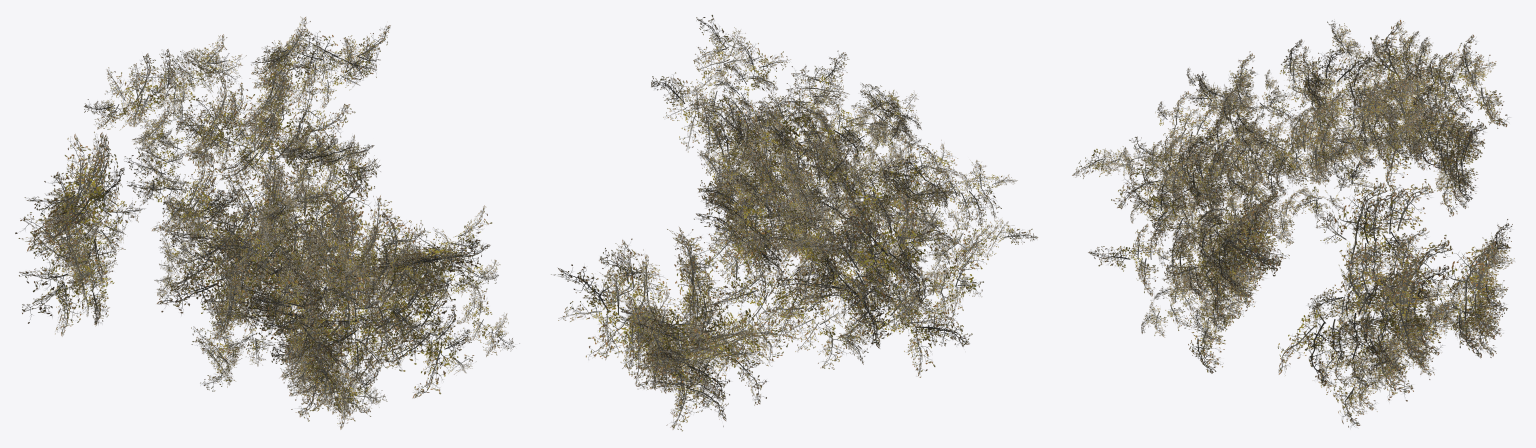
The model's file is late_autumn.glb.
3 renders of one model, left to right at view 1: azimuth 30°, elevation 25°; view 2: azimuth 150°, elevation 25°; view 3: azimuth 270°, elevation 25°, orthographic. The views are drawn at different scales.
Parts seen in each view (by area): view 1: Large_oak_tree_002_LOD0.003_Cluster_Mat Late Autumn EX_0; view 2: Large_oak_tree_002_LOD0.003_Cluster_Mat Late Autumn EX_0; view 3: Large_oak_tree_002_LOD0.003_Cluster_Mat Late Autumn EX_0.
Part boxes in pixels (x1,y1,x2,y2): Large_oak_tree_002_LOD0.003_Cluster_Mat Late Autumn EX_0: (15, 16, 519, 429); Large_oak_tree_002_LOD0.003_Cluster_Mat Late Autumn EX_0: (551, 15, 1037, 431); Large_oak_tree_002_LOD0.003_Cluster_Mat Late Autumn EX_0: (1072, 20, 1514, 427).
Bounding box in the file's own units: 24.51 × 22.78 × 24.98.
Materials: 1 (1 with a texture image).
